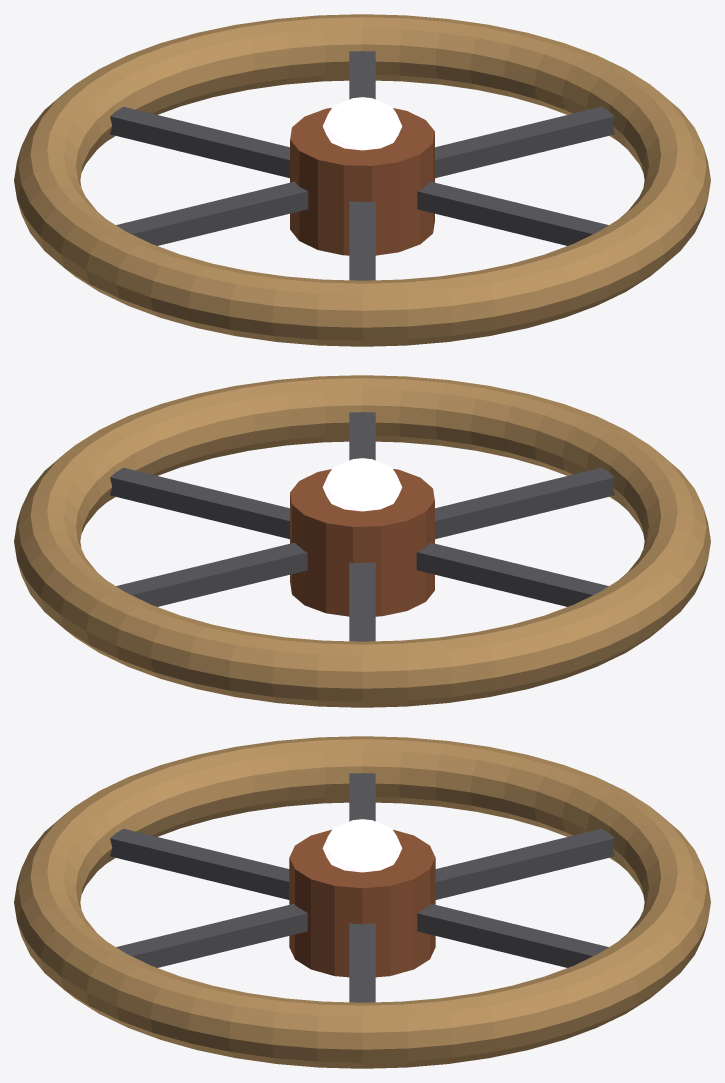
Rendered from SM_Keeper_Hittite_Rotorm11.fbx.
The picture shows the model from 3 angles, top to bottom: view 1: azimuth 30°, elevation 25°; view 2: azimuth 150°, elevation 25°; view 3: azimuth 270°, elevation 25°; orthographic projection.
Visible parts, largest first — view 1: SM_Keeper_Hittite_Rotorm11; view 2: SM_Keeper_Hittite_Rotorm11; view 3: SM_Keeper_Hittite_Rotorm11.
Boxes of the visible parts, <box> form: SM_Keeper_Hittite_Rotorm11: <box>14,14,710,346</box>; SM_Keeper_Hittite_Rotorm11: <box>14,375,710,707</box>; SM_Keeper_Hittite_Rotorm11: <box>14,736,710,1068</box>.
Bounding box in the file's own units: 2.1 × 0.41 × 2.1.
